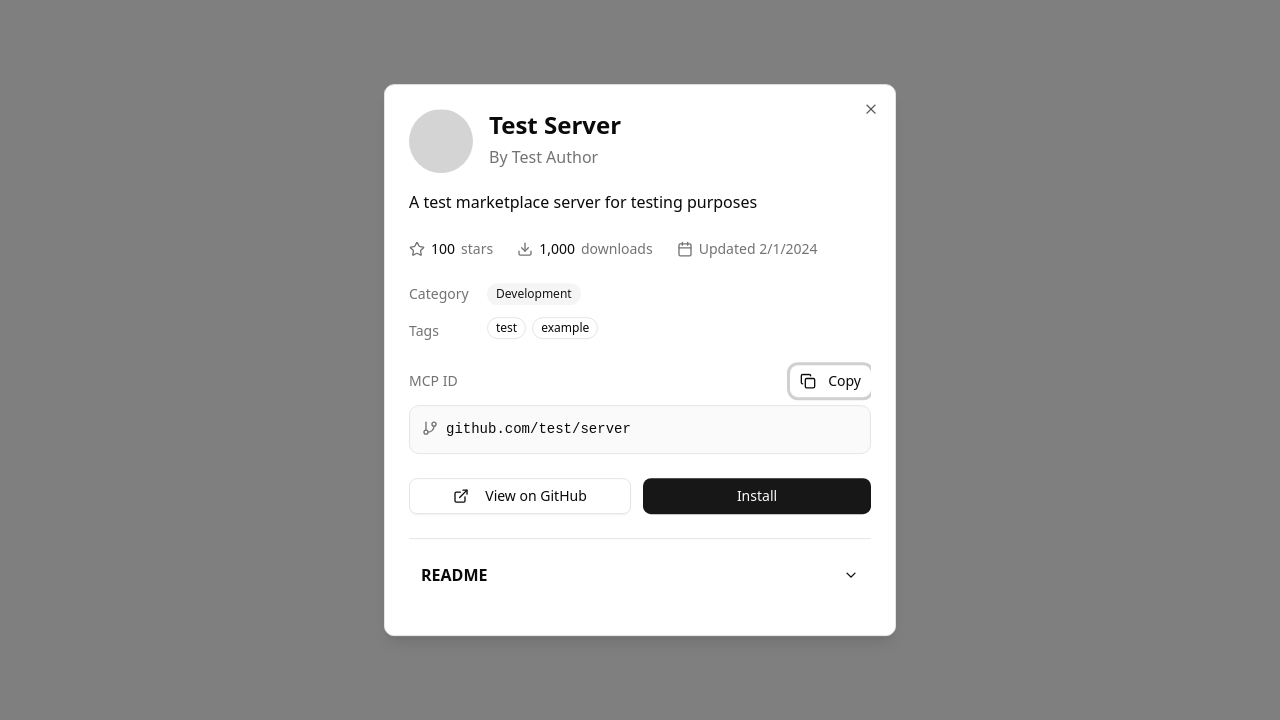
Test: MarketplaceServerDetail › Copy MCP ID › shows "Copied!" message after copying
The image size is (1280, 720).
Check: the text "github.com/test/server" is shown, box [446, 421, 631, 437]
Click the button "Copy" at point(831, 381), box [790, 365, 871, 397]
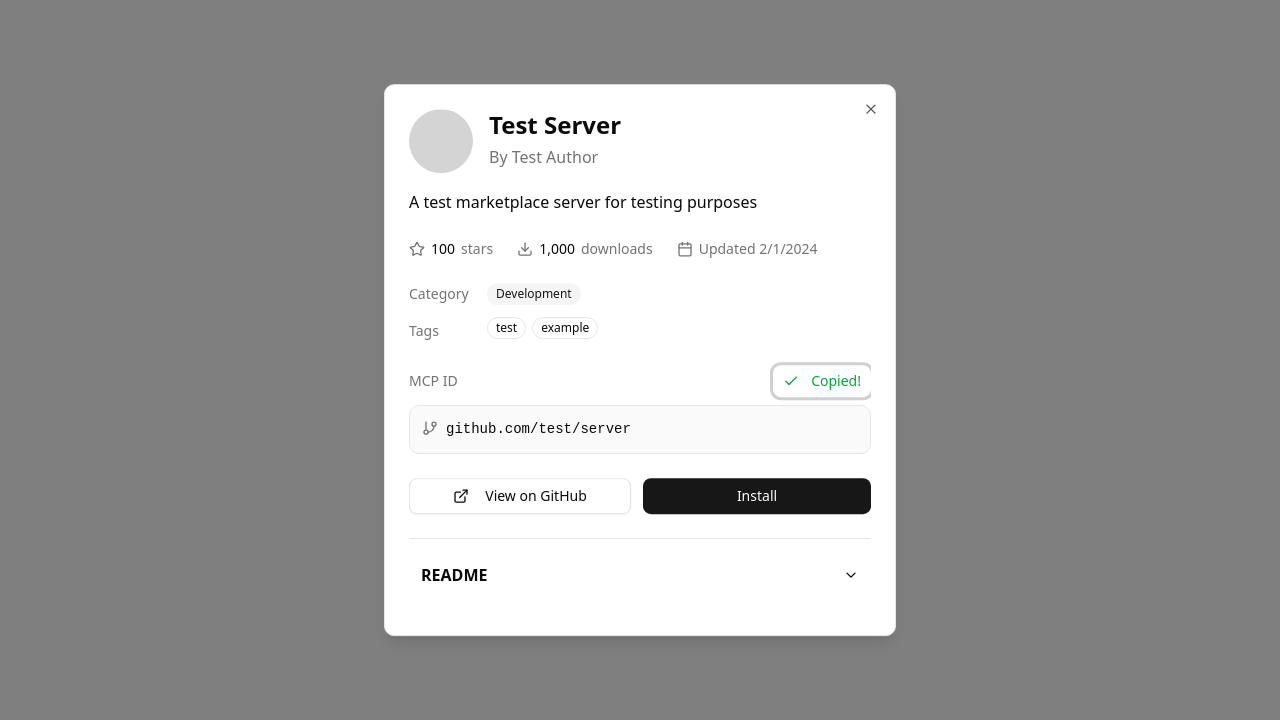
Check: the text "Copied!" is shown, box [811, 371, 861, 391]
